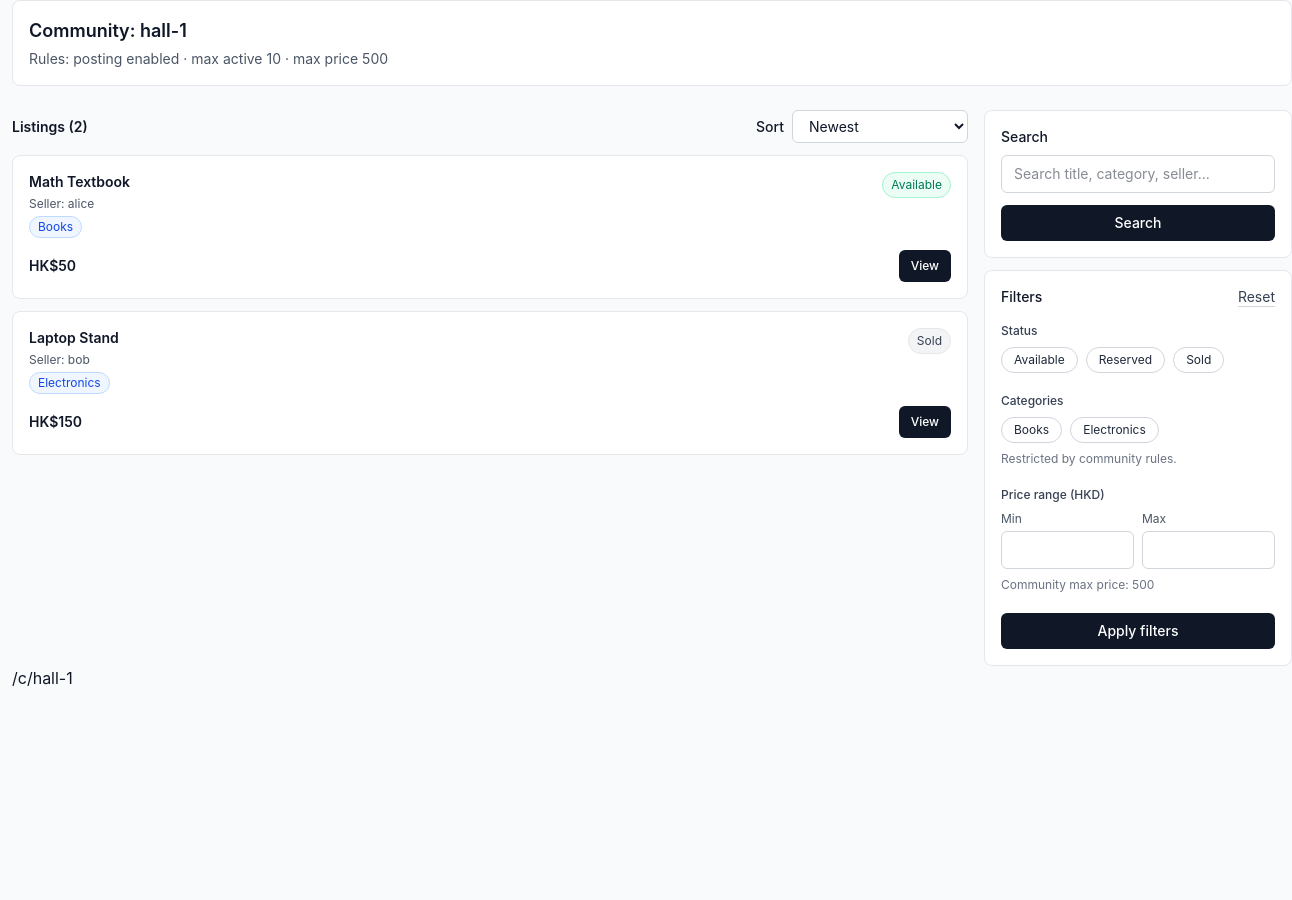
it: HomePage › updates the URL when search is submitted
Expected: the text "Math Textbook" is shown, [29, 172, 130, 192]
In the field labelled "Search": (1138, 174) [1001, 155, 1275, 193], type "lamp"
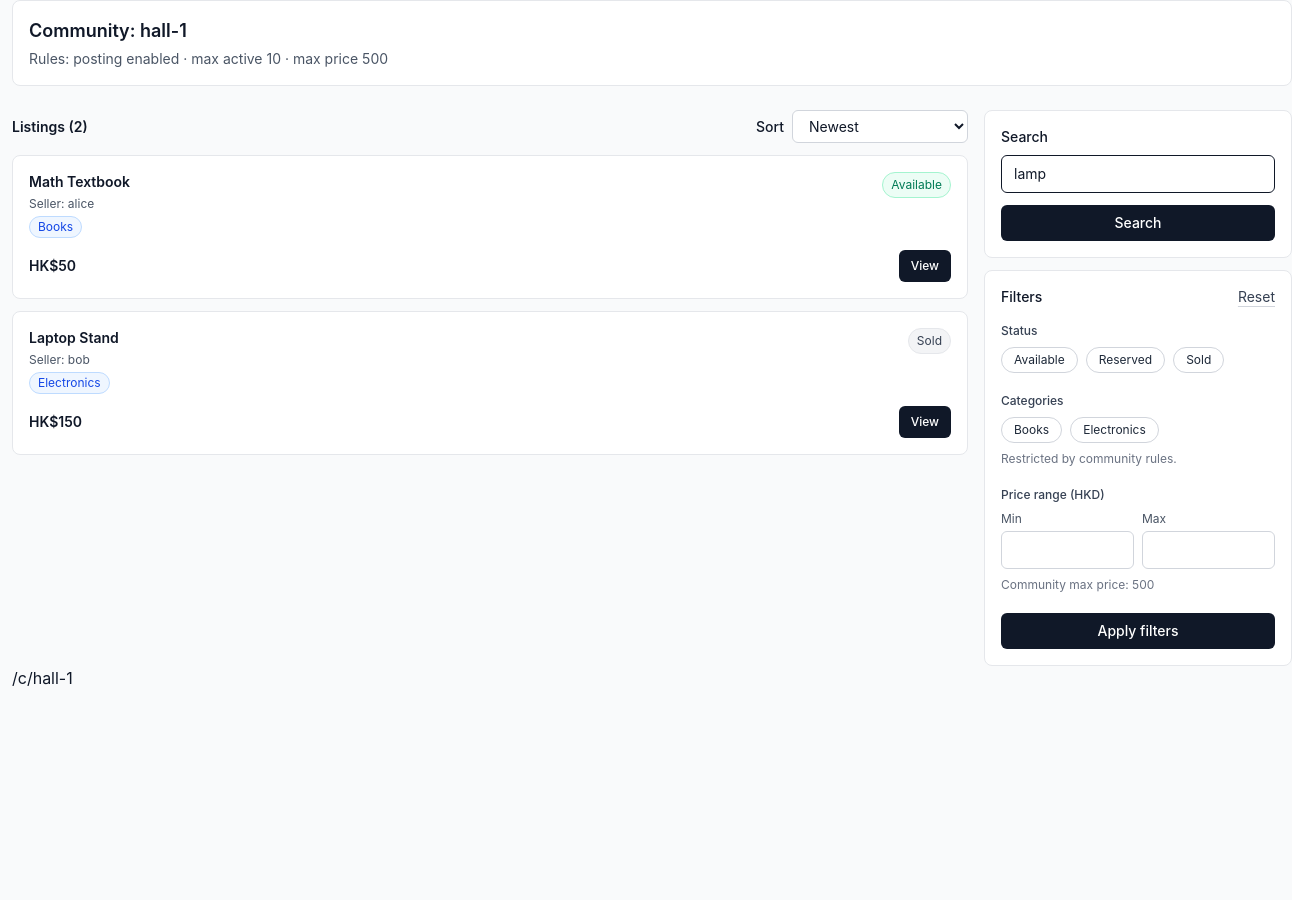
Click the button "Search": (1138, 223) [1001, 205, 1275, 241]
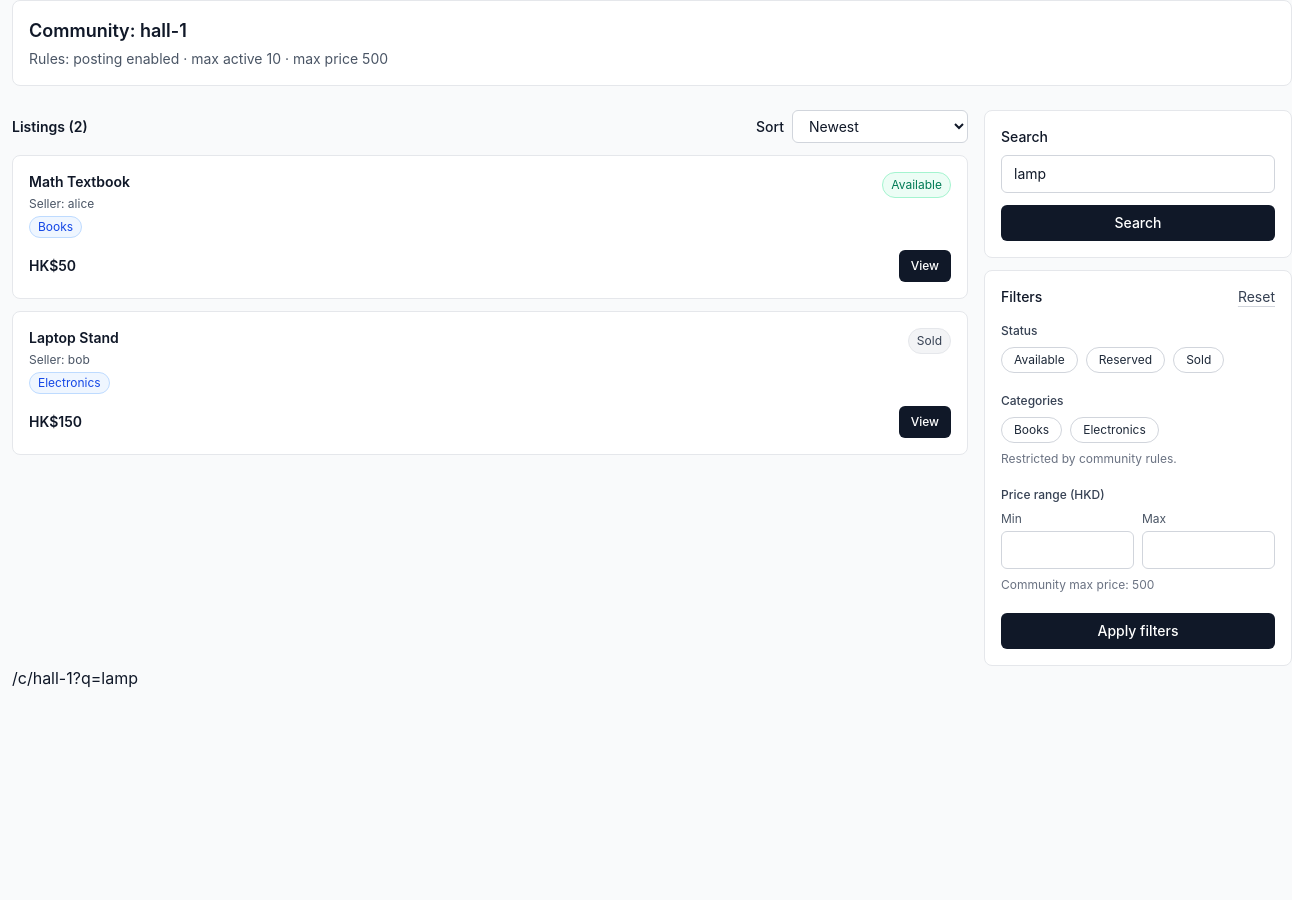
Expected: the text with test id "location" reads "/c/hall-1?q=lamp", [12, 668, 138, 688]
